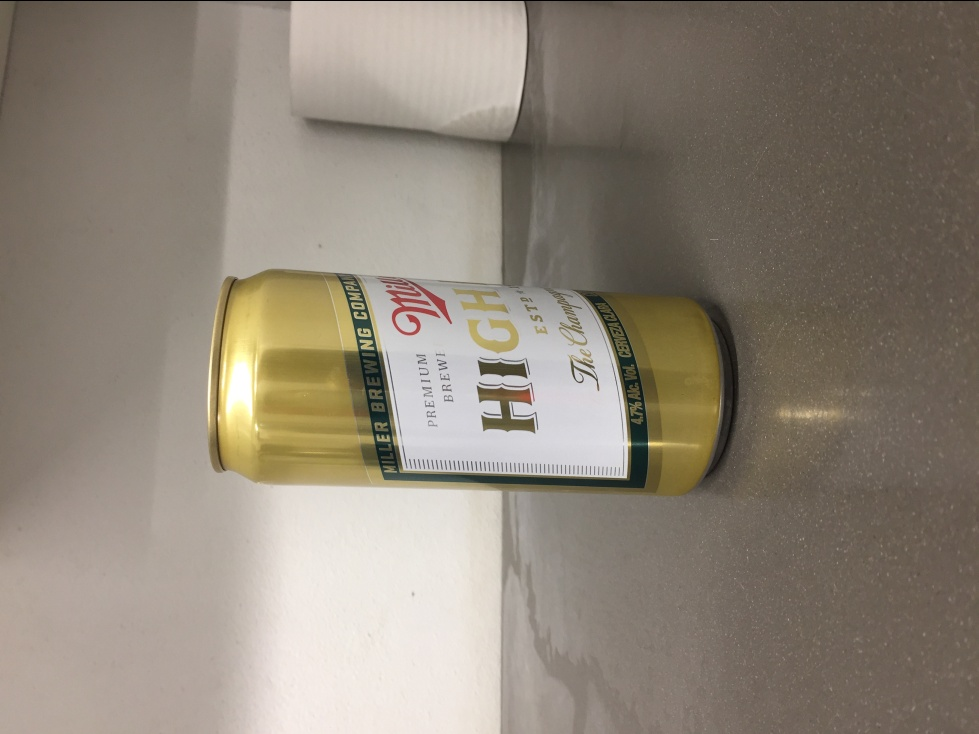miller: (206, 264, 739, 500)
